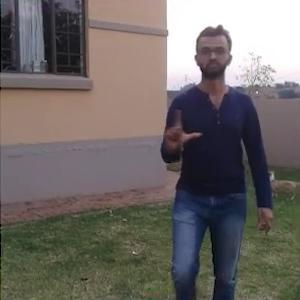land_hand: (158, 104, 206, 156)
